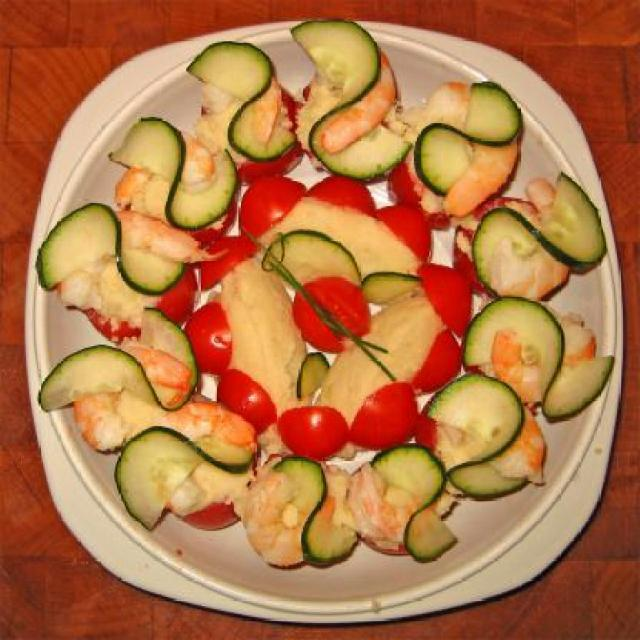Zucchini: (36, 302, 198, 444), (282, 19, 413, 184), (470, 166, 612, 302), (463, 300, 619, 422), (108, 111, 242, 236), (183, 35, 300, 171), (34, 202, 194, 300), (116, 428, 258, 534), (408, 84, 526, 205), (414, 371, 528, 484), (356, 439, 450, 561), (259, 459, 358, 570)
